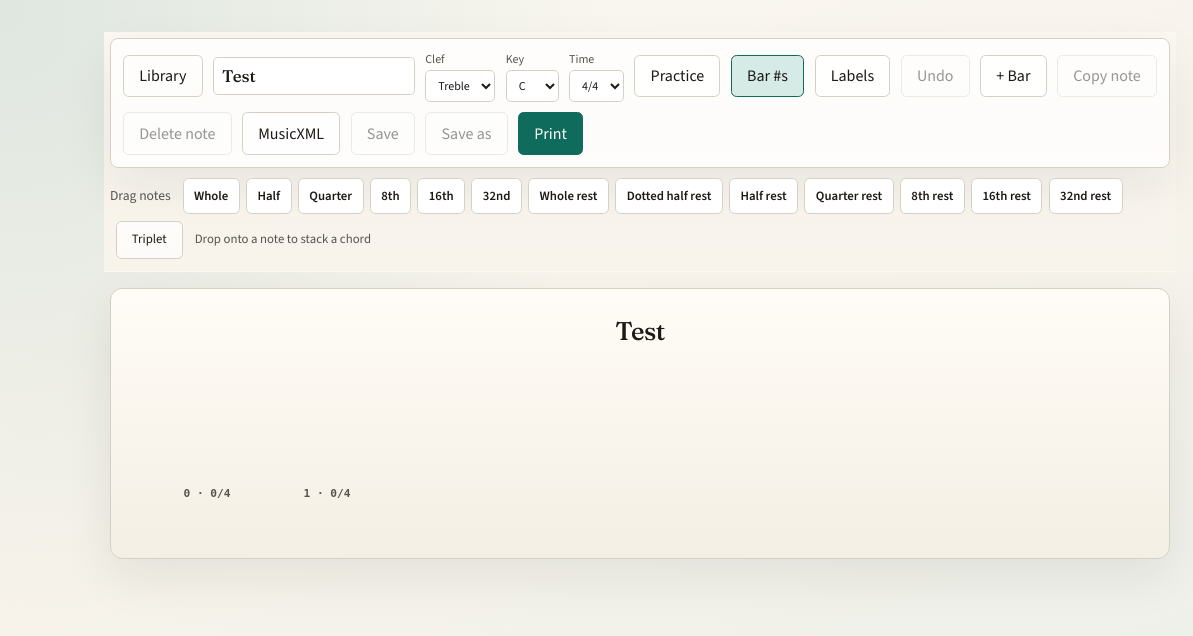
Scenario: Editor practice + dirty state › toggles practice mode and marks dirty after meta edit
Click the button with test id "practice-toggle": {"x": 677, "y": 76} 634,55 -> 720,98
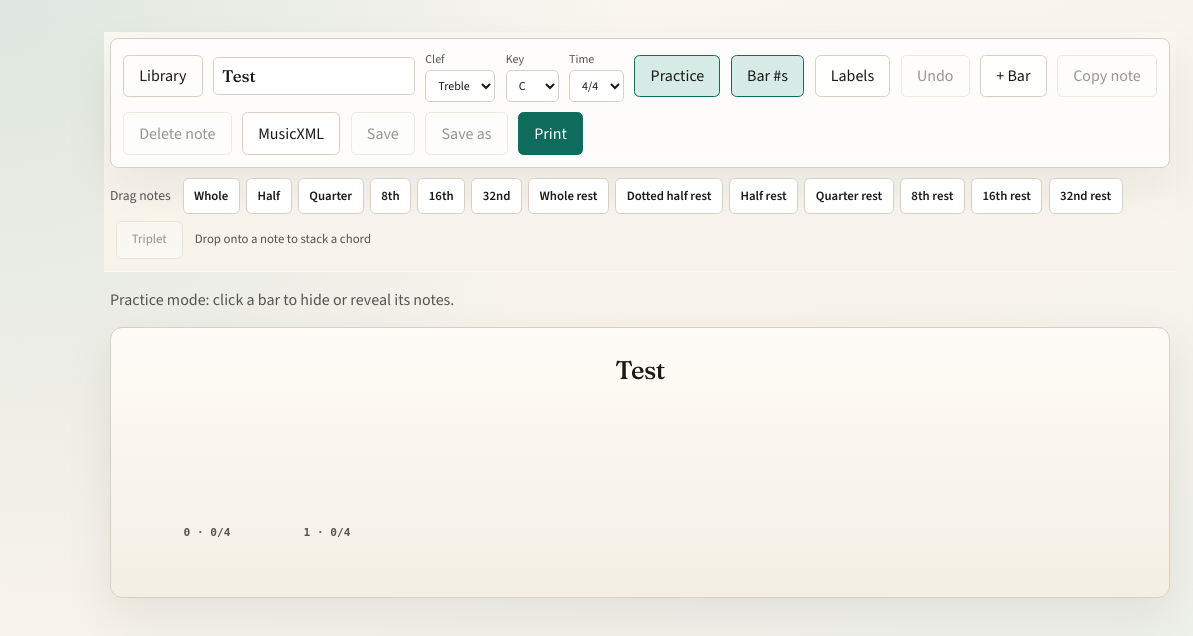
Expected: the text "Practice mode: click a bar to hide or reveal its notes." is shown, 110,289 -> 454,310
Click the button with test id "measure-numbers-toggle": {"x": 768, "y": 76} 731,55 -> 804,98
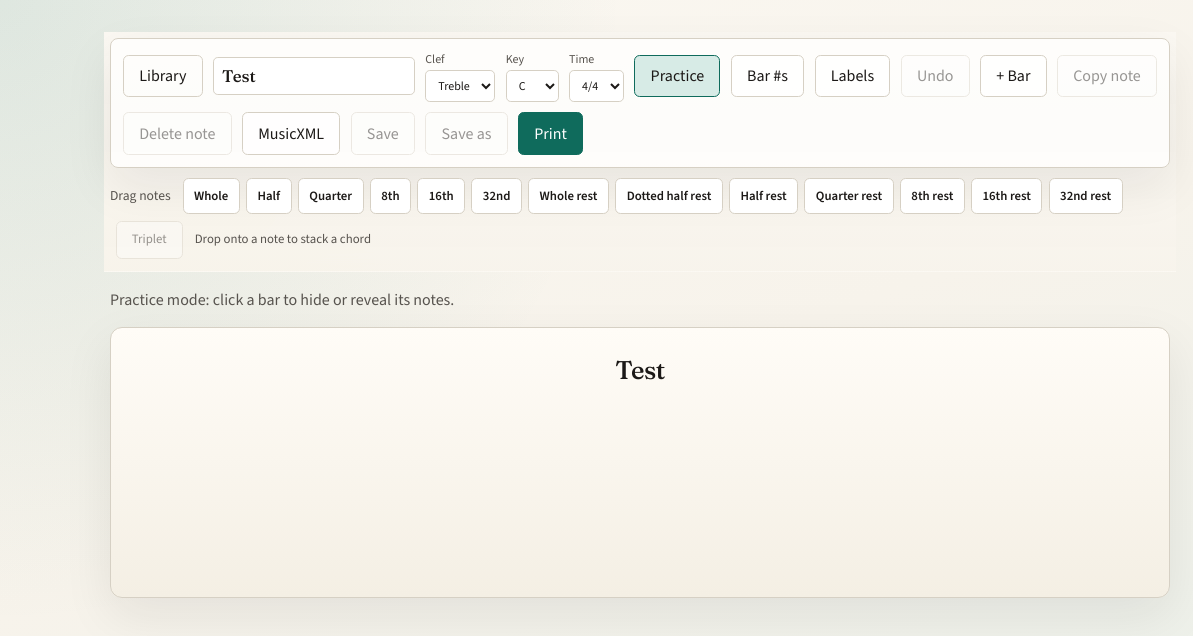
Expected: the button with test id "measure-numbers-toggle" is not pressed
Click the button with test id "measure-numbers-toggle": {"x": 768, "y": 76} 731,55 -> 804,98
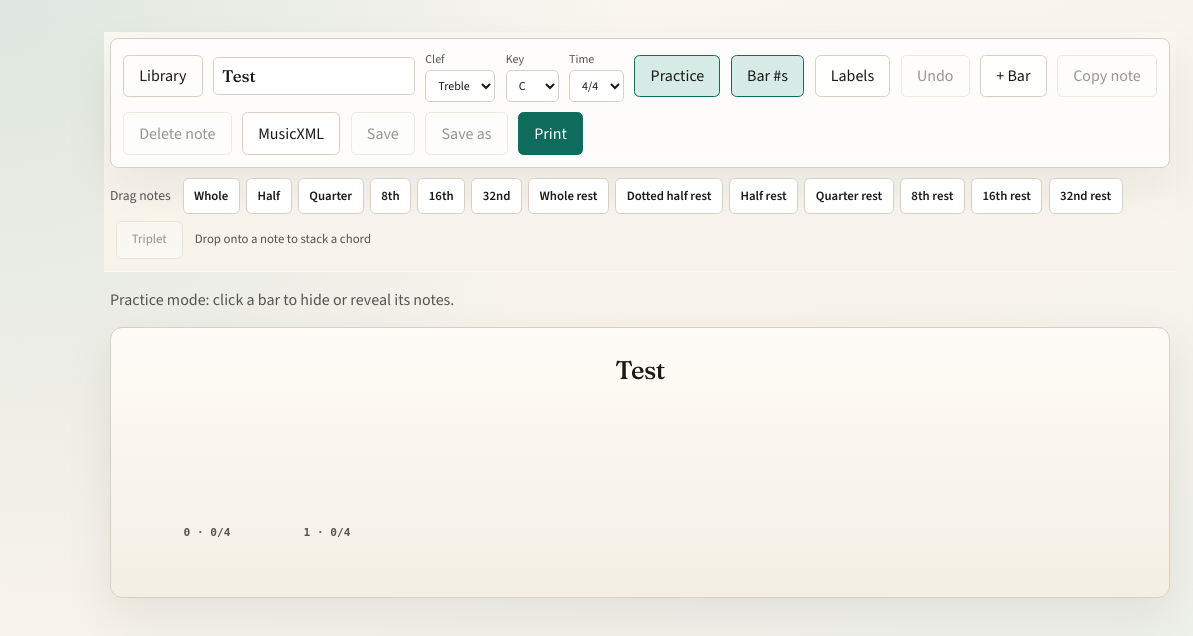
Expected: the button with test id "measure-numbers-toggle" is pressed, 731,55 -> 804,98
Replace the text in the field named "Score title" with "Edited": {"x": 314, "y": 76} 213,57 -> 415,95
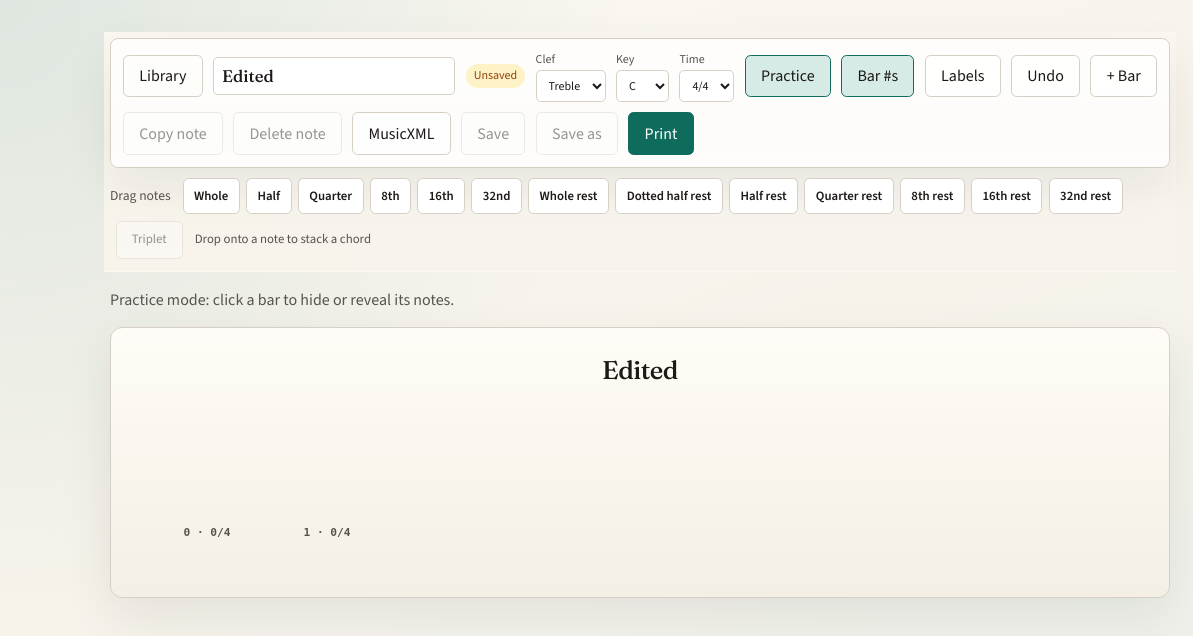
Expected: the text "Unsaved" is shown, 466,64 -> 525,88
